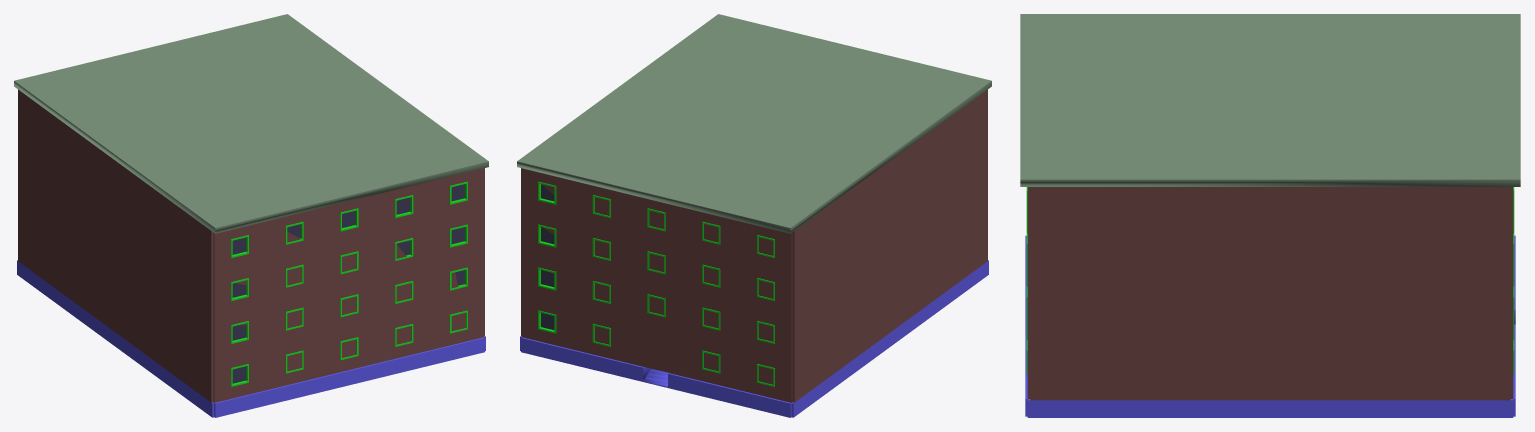
3 views of the same model, side by side, from view 1: azimuth 30°, elevation 25°; view 2: azimuth 150°, elevation 25°; view 3: azimuth 270°, elevation 25° (orthographic). The views are drawn at different scales.
Visible parts, largest first — view 1: BR20_F04_01; view 2: BR20_F04_01; view 3: BR20_F04_01.
Boxes of the visible parts, x1,y1,x2,y2 form: BR20_F04_01: (14,14,488,417); BR20_F04_01: (517,14,991,417); BR20_F04_01: (1020,14,1520,417).
Bounding box in the file's own units: 2000 × 1340 × 2550.
